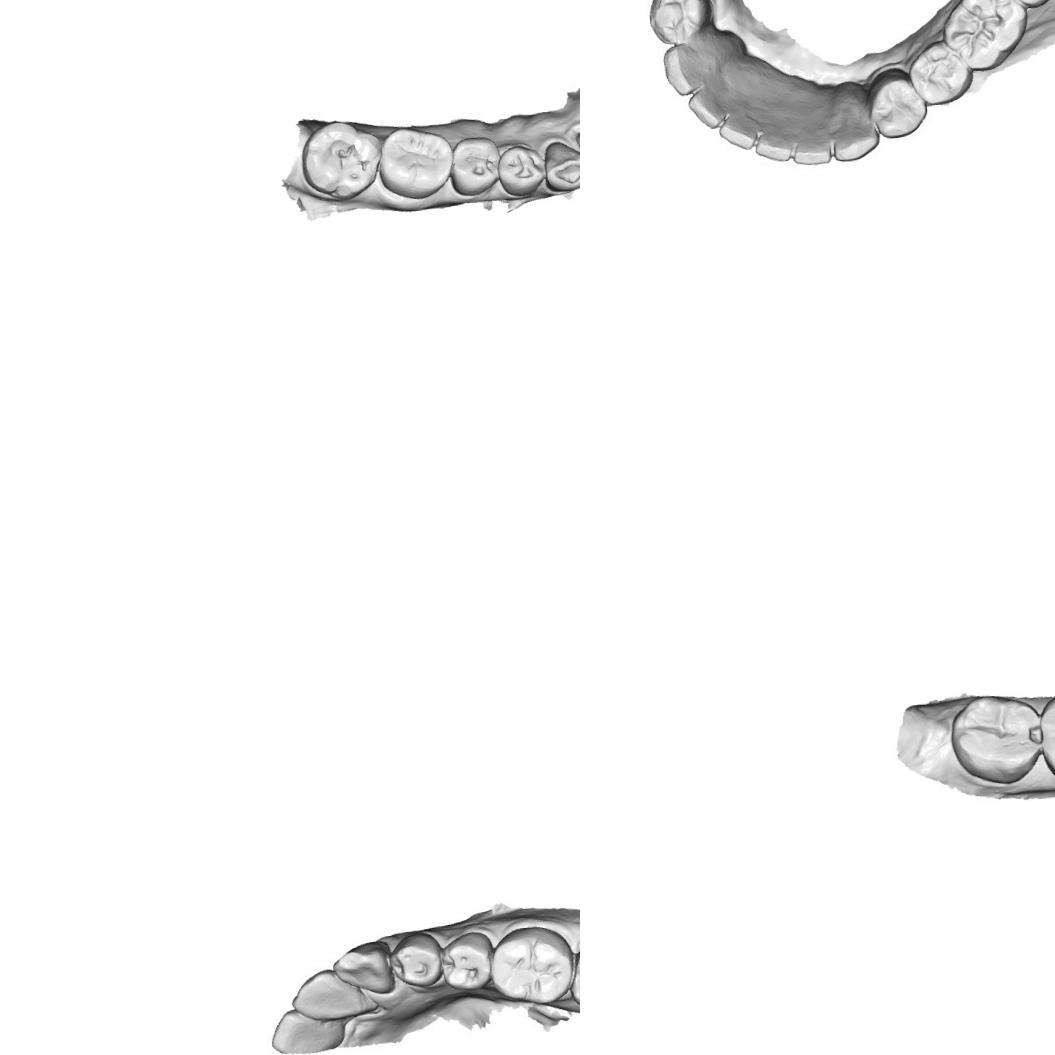canine: (829, 88, 883, 164), (332, 940, 398, 993), (660, 42, 710, 98), (540, 138, 580, 193)
incisor: (289, 967, 371, 1021), (271, 1011, 348, 1055), (748, 98, 796, 164), (787, 104, 834, 168), (683, 84, 732, 133), (716, 106, 762, 152)
molar: (950, 694, 1044, 788), (298, 116, 386, 202), (490, 924, 576, 1008), (375, 122, 457, 202), (945, 0, 1020, 59)
premolar: (864, 62, 931, 140), (910, 41, 974, 110), (448, 133, 502, 198), (644, 0, 717, 45), (494, 141, 547, 198), (442, 936, 492, 991), (390, 931, 438, 985)
